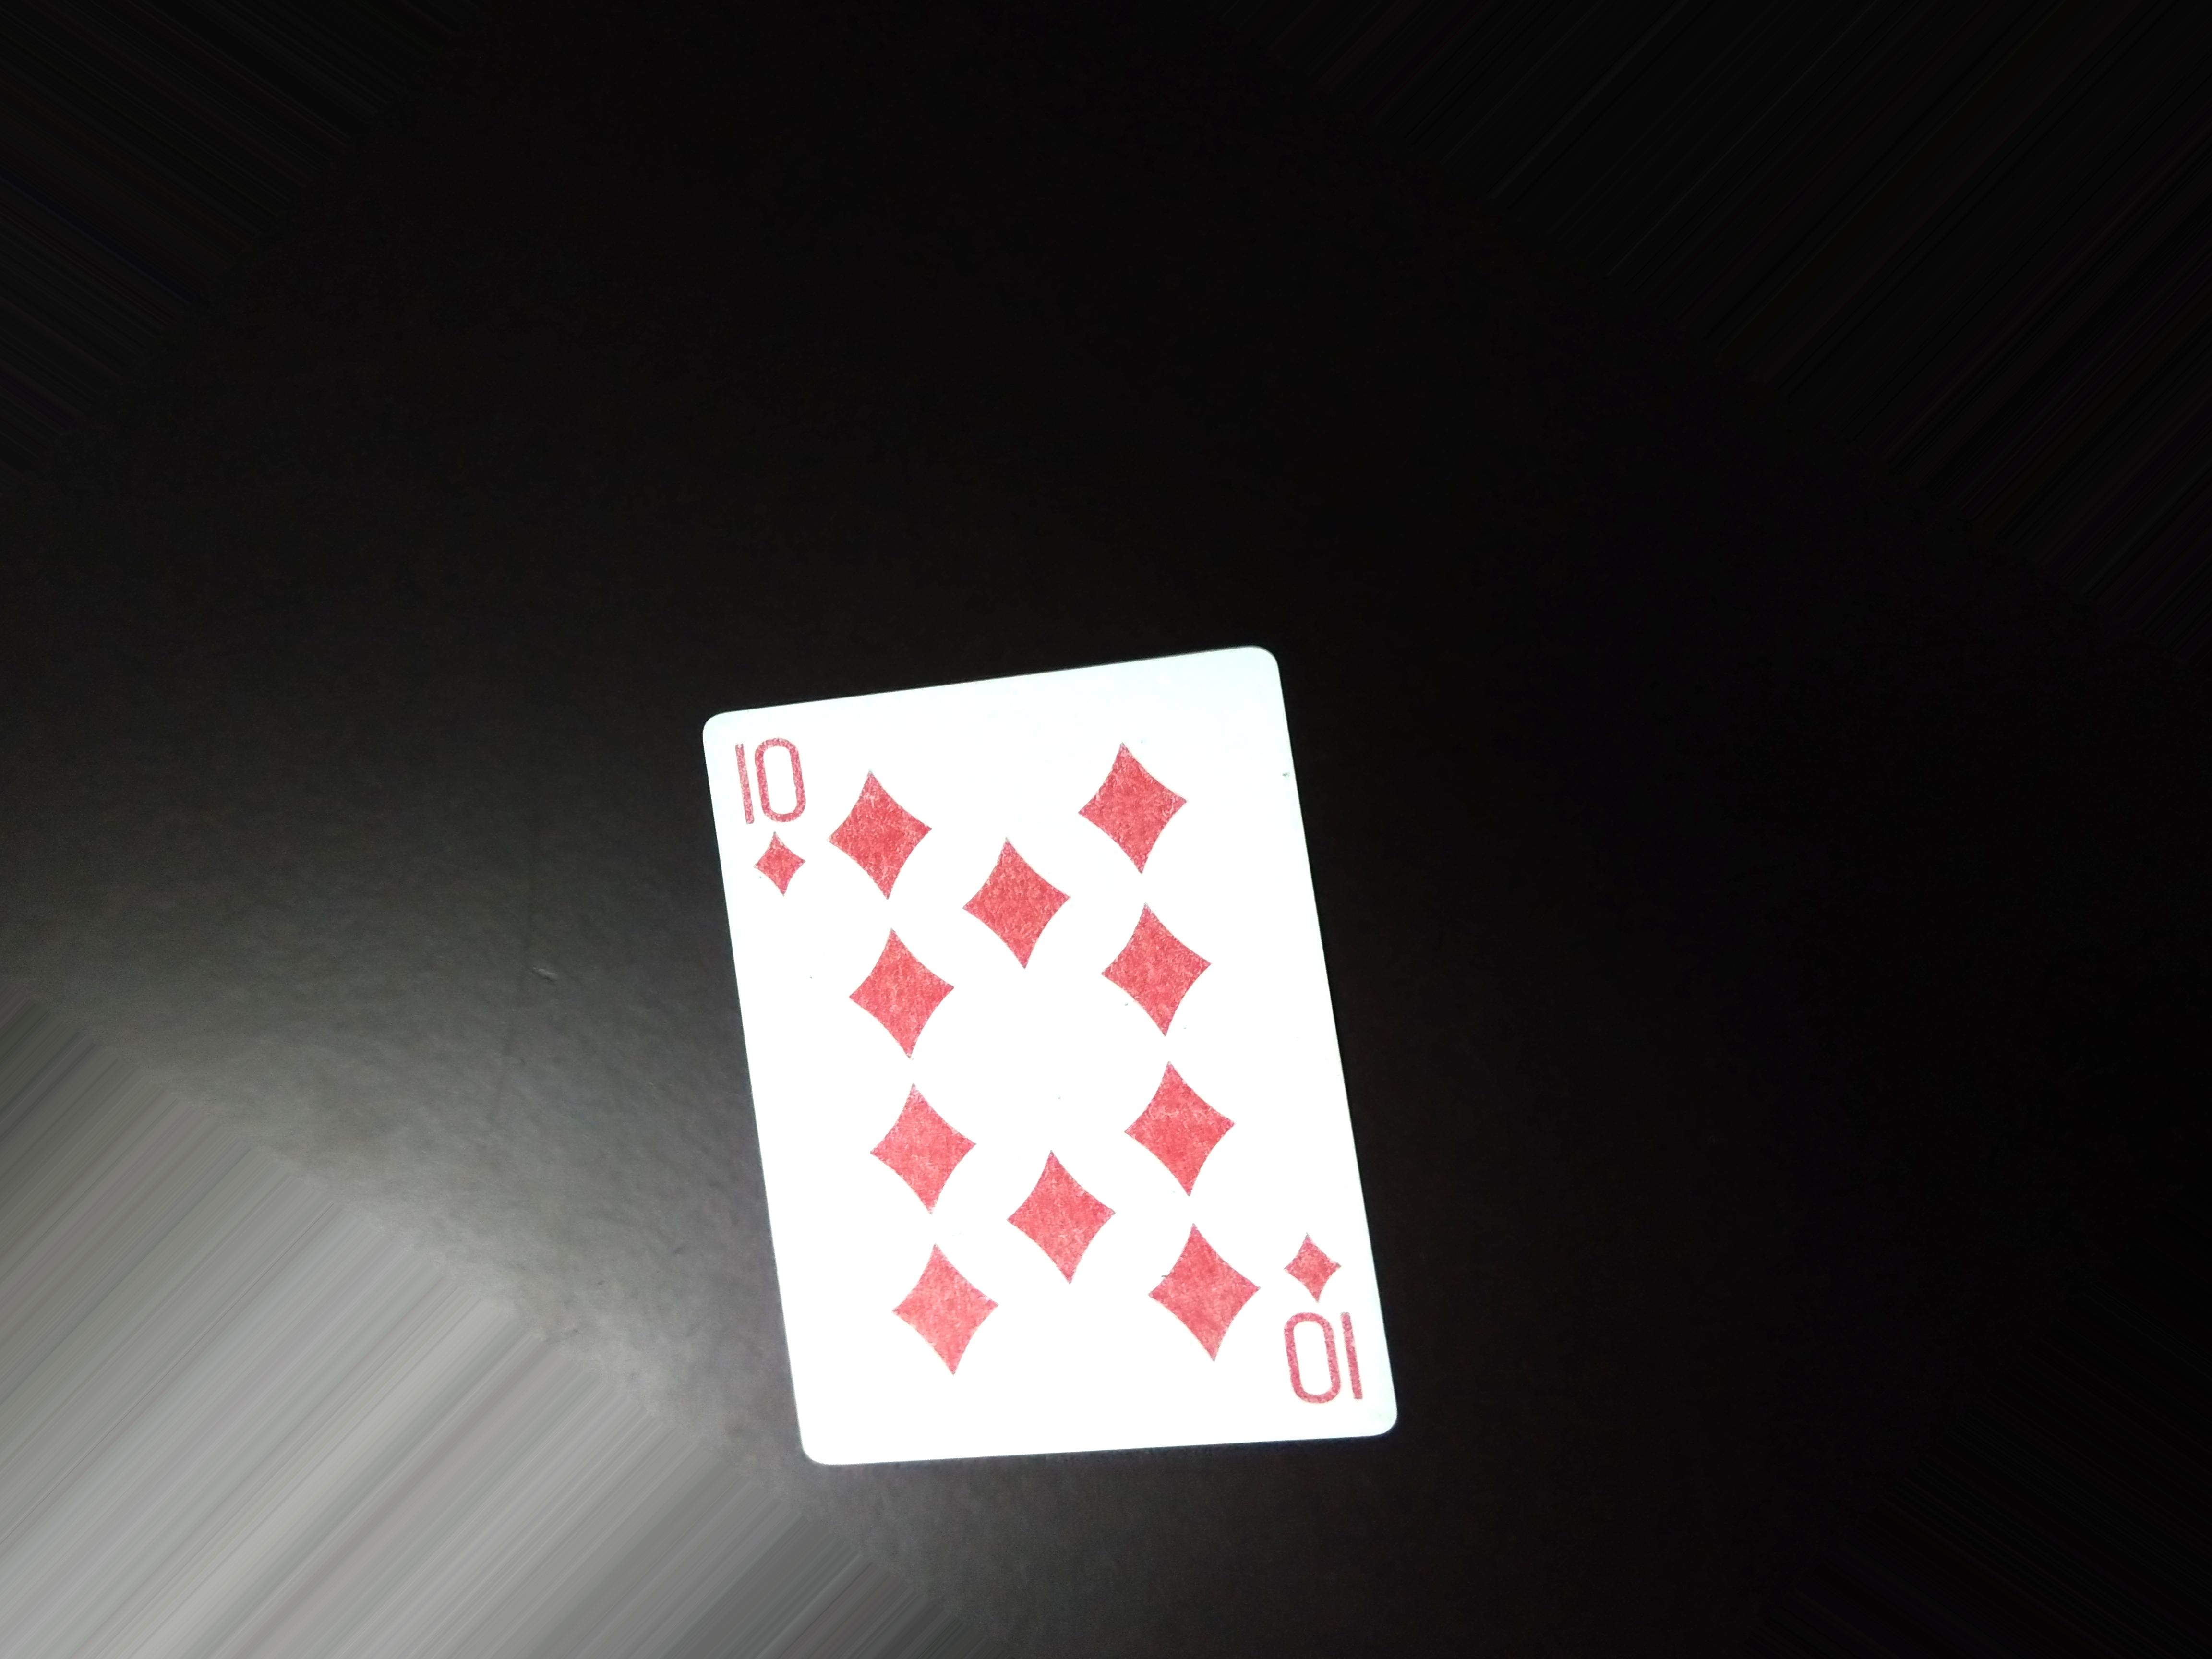10D: (723, 723, 822, 903)
